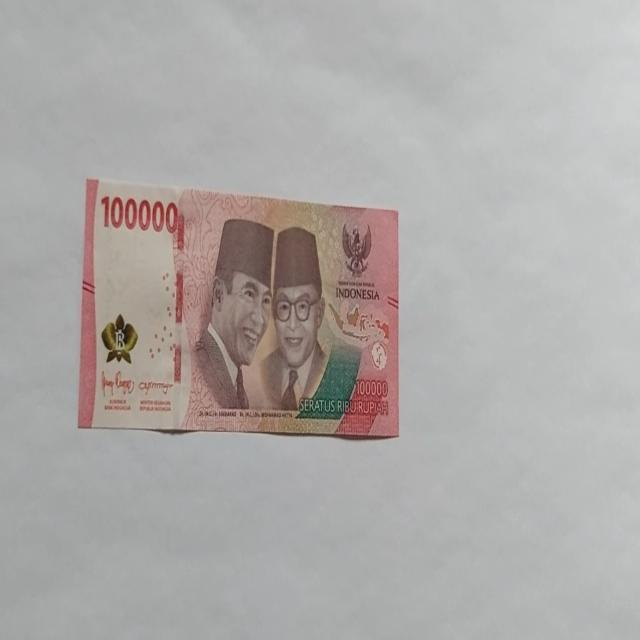seratus ribu rupiah: (77, 175, 400, 439), (182, 216, 274, 427)
